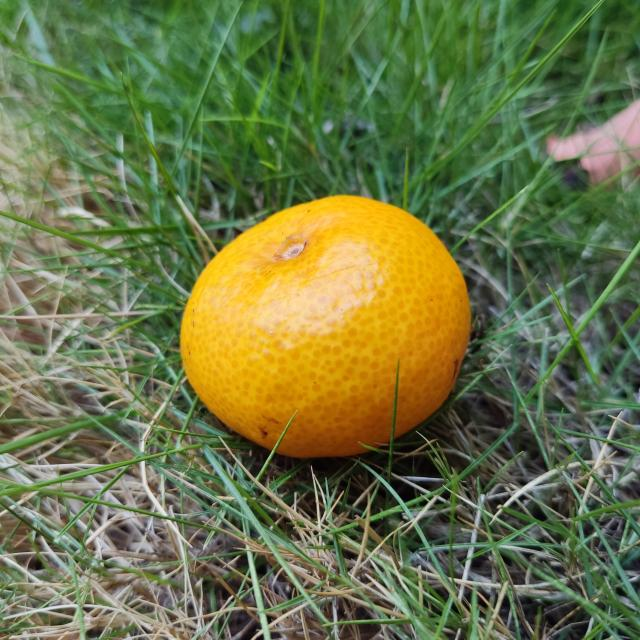orange: (177, 192, 468, 463)
